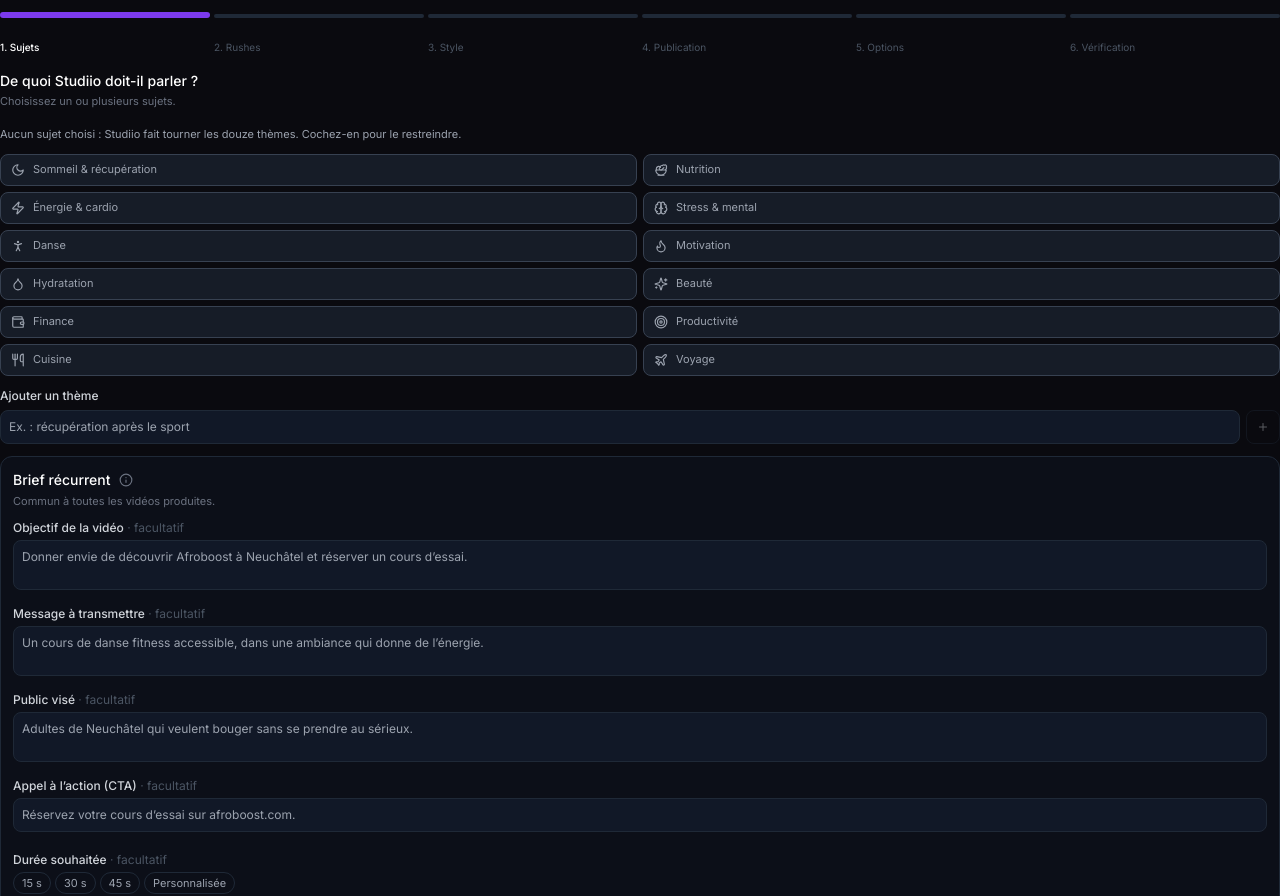
Test: G — 3 rushes dont 1 expiré : 2 partout, et après rechargement › « 2 rushes prêts », 1 indisponible, Médias prévus = 2
The width and height of the screenshot is (1280, 896).
Click the button named "Rushes". click: x=319, y=16
box: [214,14,424,18]
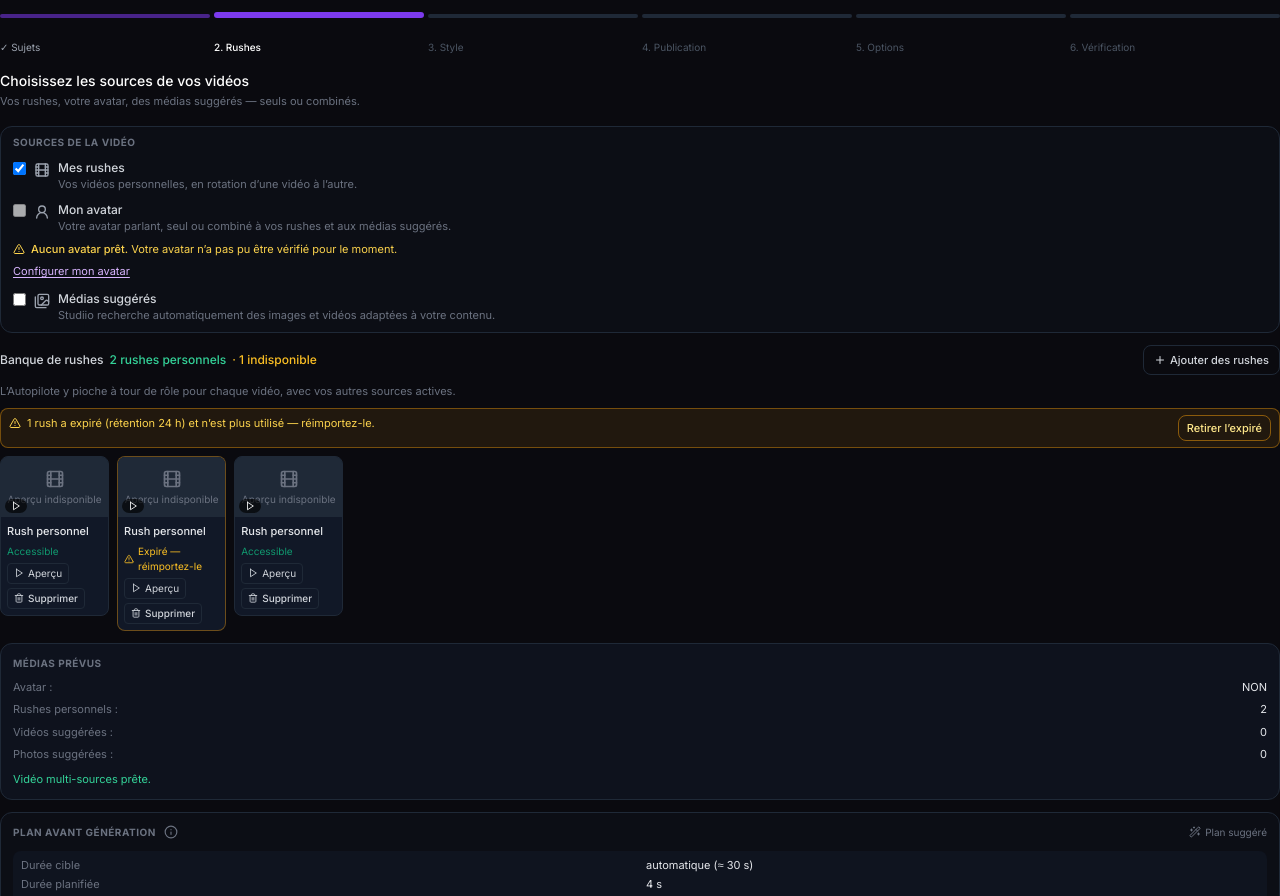
Expected: the button "Ajouter des rushes" is shown, [1143,344,1279,375]
Expected: the element showing "Banque de rushes2 rushes personnels· 1 indisponible" is shown, [0,352,317,368]
Expected: the text "· 1 indisponible" is shown, [232,352,317,367]
